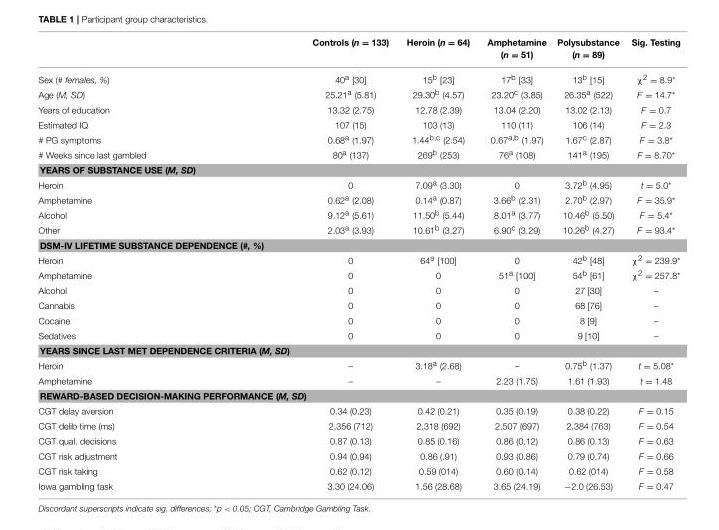table: (37, 37, 679, 490)
table column: (37, 37, 228, 490), (228, 37, 396, 490), (396, 37, 477, 490), (550, 37, 624, 490), (477, 37, 550, 490), (624, 37, 679, 490)
table column header: (37, 37, 679, 65)
table projected row header: (37, 388, 679, 403), (37, 162, 679, 176), (37, 237, 679, 251), (37, 343, 679, 357)
table row: (37, 37, 679, 65), (37, 65, 679, 86), (37, 86, 679, 102), (37, 146, 679, 162), (37, 221, 679, 237), (37, 266, 679, 282), (37, 282, 679, 298), (37, 357, 679, 373), (37, 102, 679, 117), (37, 131, 679, 146), (37, 176, 679, 191), (37, 191, 679, 206), (37, 206, 679, 221), (37, 251, 679, 266), (37, 298, 679, 313), (37, 313, 679, 328), (37, 328, 679, 343), (37, 373, 679, 388), (37, 388, 679, 403), (37, 403, 679, 418), (37, 418, 679, 433), (37, 433, 679, 448), (37, 448, 679, 463), (37, 463, 679, 478), (37, 117, 679, 131), (37, 162, 679, 176), (37, 237, 679, 251), (37, 343, 679, 357), (37, 478, 679, 490)
